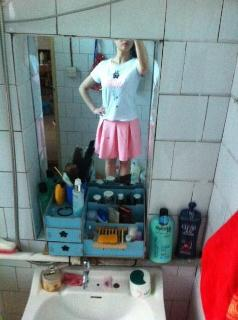short sleeve top: (91, 58, 147, 121)
skirt: (94, 113, 142, 161)
